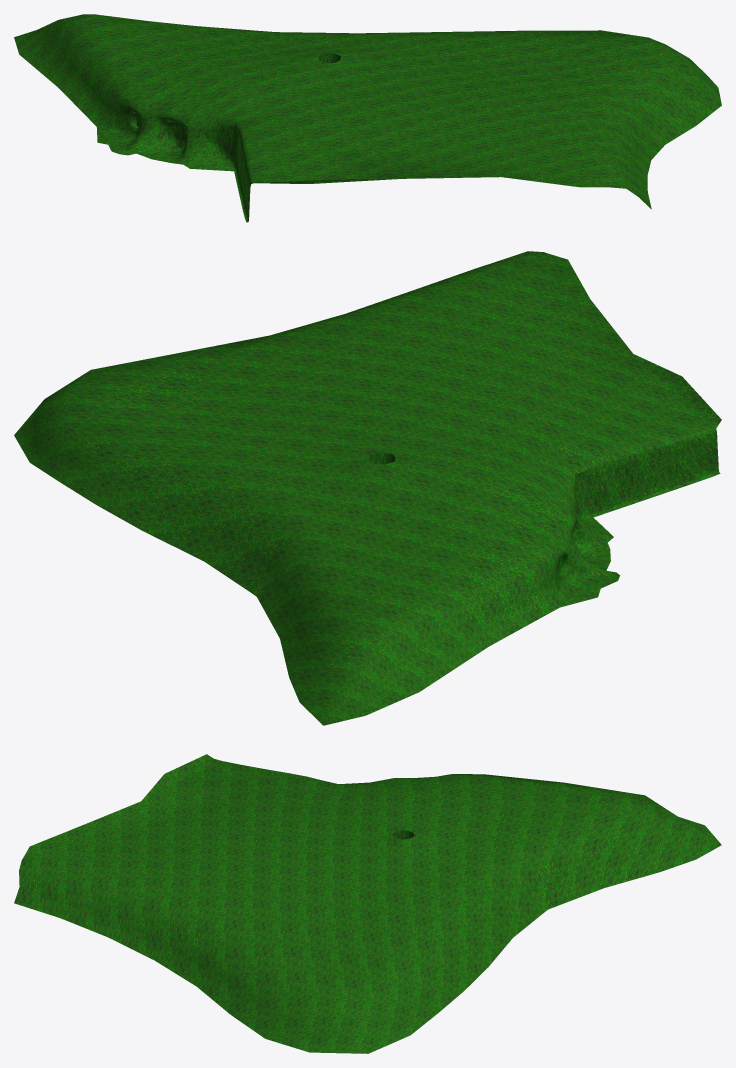
Rendered from HTOWN01_PS15.fbx.
3 views of the same model, one above another, from view 1: azimuth 30°, elevation 25°; view 2: azimuth 150°, elevation 25°; view 3: azimuth 270°, elevation 25° (orthographic). The views are drawn at different scales.
Parts seen in each view (by area): view 1: HTOWN01_PS15; view 2: HTOWN01_PS15; view 3: HTOWN01_PS15.
Boxes of the visible parts, left/top/right/bottom form: HTOWN01_PS15: left=14, top=14, right=721, bottom=222; HTOWN01_PS15: left=14, top=251, right=721, bottom=725; HTOWN01_PS15: left=14, top=754, right=721, bottom=1053.
Bounding box in the file's own units: 452142 × 67844 × 554981.
2 materials, 2 textured.
